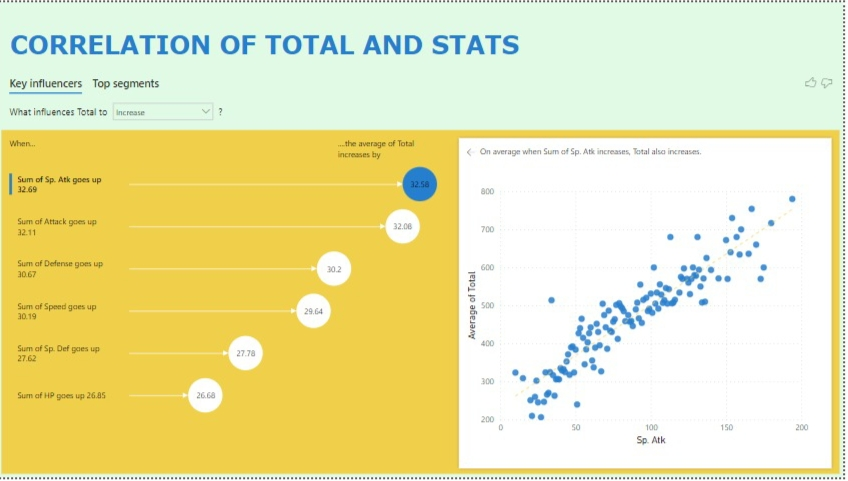

What the dashboard file says about the page in this screenshot:
{"tool":"powerbi","page":{"name":"Page 6","canvas":[1280,720],"ordinal":5},"visuals":[{"type":"keyDriversVisual","fields":{"Target":["pokemon.Total"],"ExplainBy":["Sum(pokemon.Attack)","Sum(pokemon.Defense)","Sum(pokemon.HP)","Sum(pokemon.Sp. Atk)","Sum(pokemon.Sp. Def)","Sum(pokemon.Speed)"]},"box":[0,99,1280,620.7],"z":0},{"type":"textbox","box":[0,36.4,807,74.4],"z":1}]}

Visuals, with their boxes in screenshot pixels (x1, y1, x2, y2), scaled from the page's 1280x720 canvas onto the 848x481 screenshot:
keyDriversVisual - pokemon.Total x Sum(pokemon.Attack): [left=0, top=66, right=847, bottom=480]
textbox: [left=0, top=24, right=535, bottom=74]
